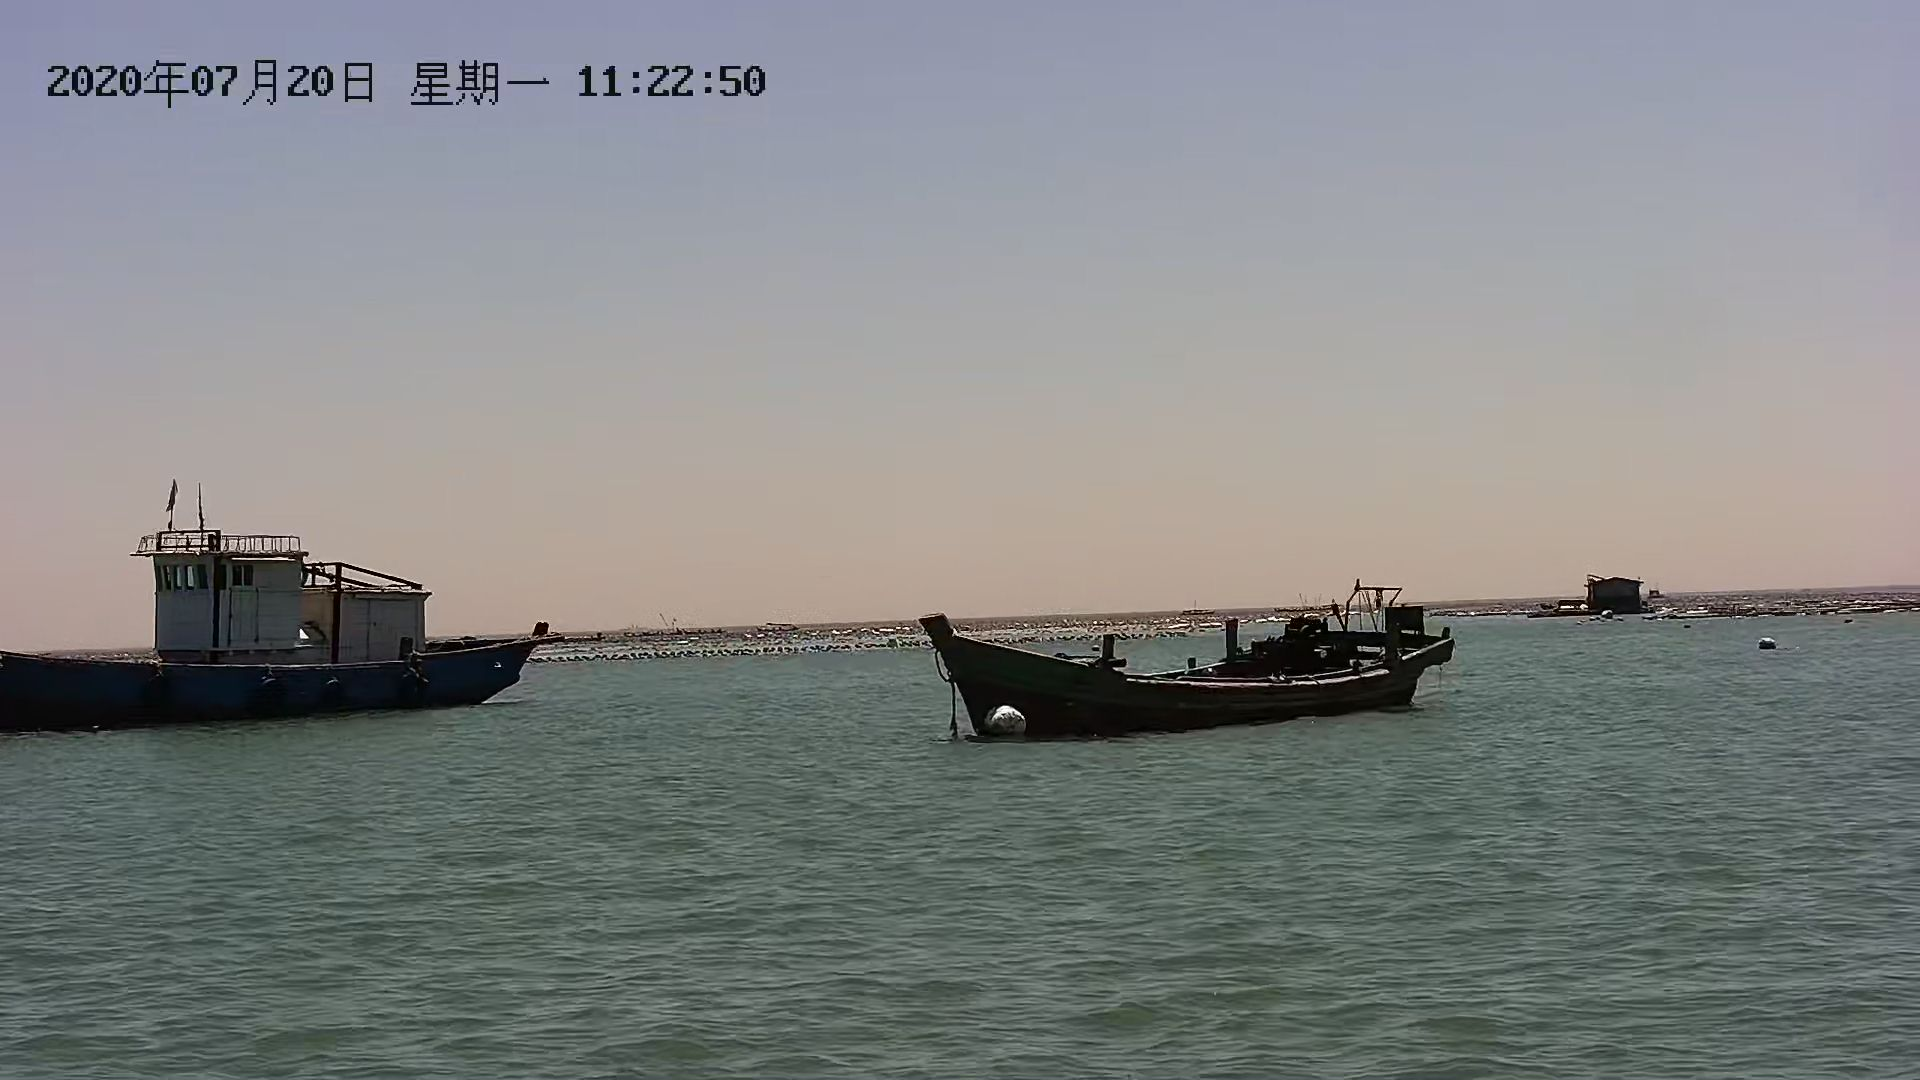boat: (4, 524, 582, 731), (916, 576, 1458, 731)
platform: (1543, 574, 1679, 626)
